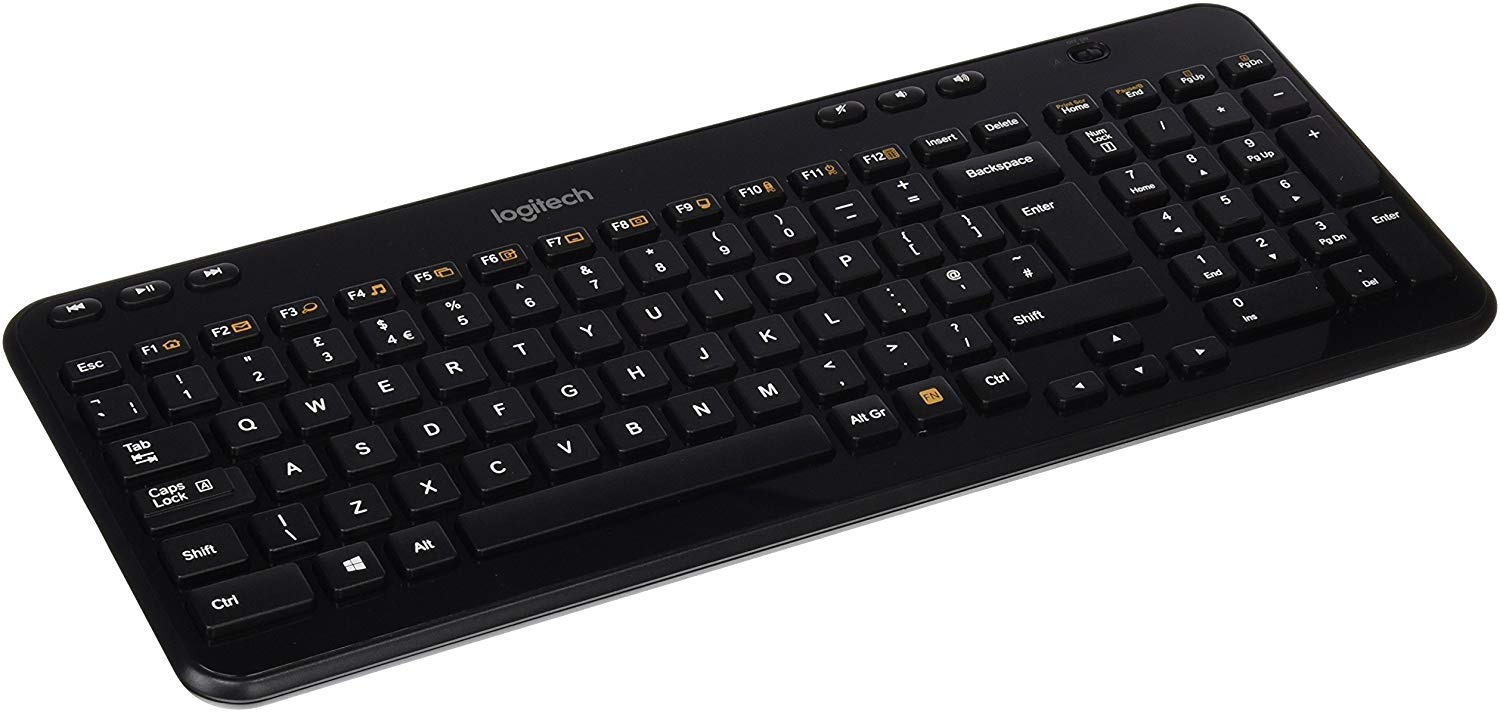keyboard: (5, 0, 1498, 711)
